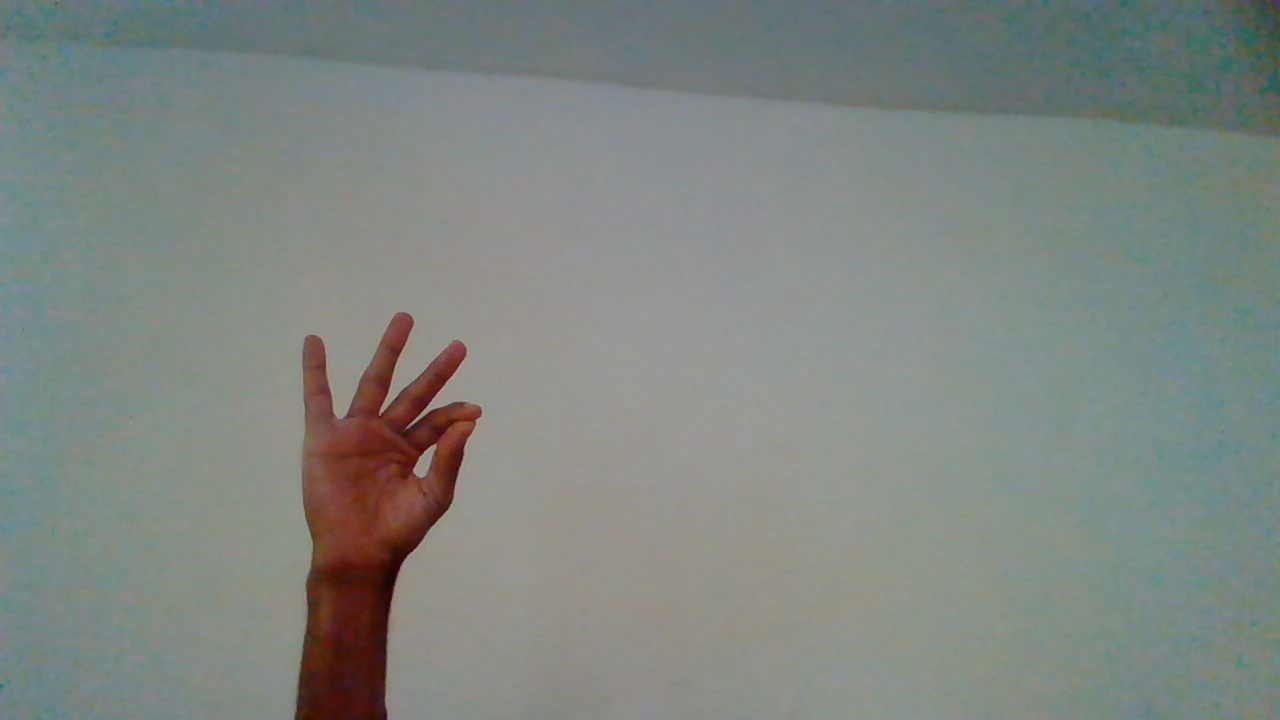le: (301, 312, 484, 708)
